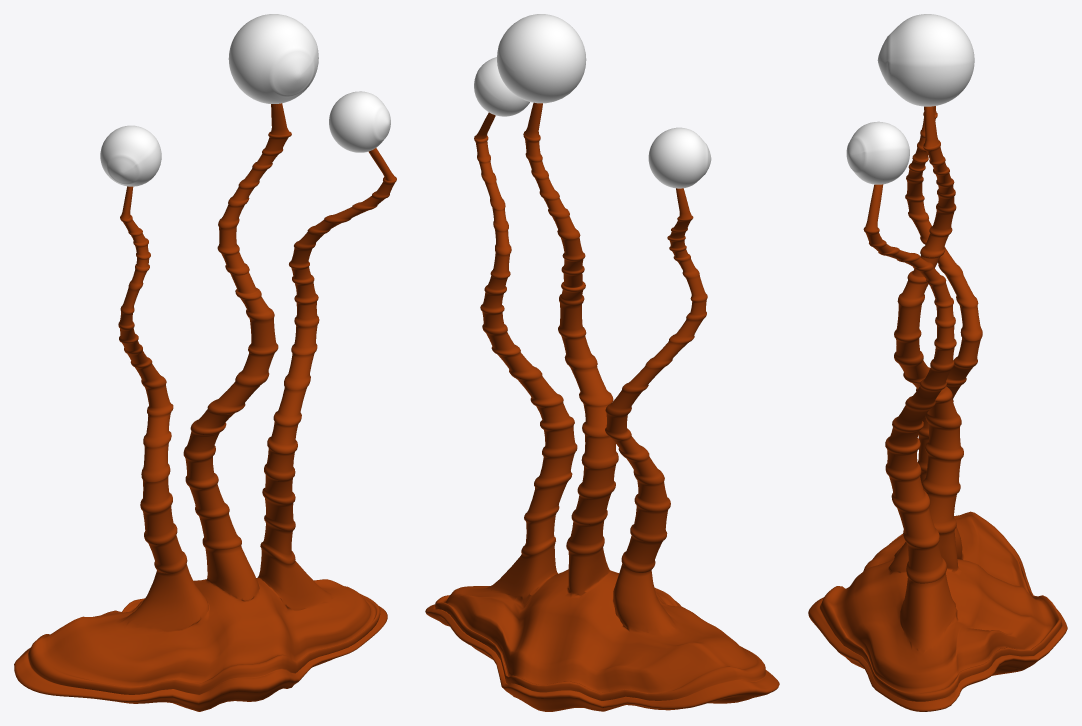
The model's file is WeirdPlant.fbx.
3 renders of one model, left to right at view 1: azimuth 30°, elevation 25°; view 2: azimuth 150°, elevation 25°; view 3: azimuth 270°, elevation 25°, orthographic. The views are drawn at different scales.
Parts seen in each view (by area): view 1: polySurface19; view 2: polySurface19; view 3: polySurface19.
Part boxes in pixels (x1=…): polySurface19: x1=14, y1=14, x2=396, y2=711; polySurface19: x1=425, y1=14, x2=779, y2=711; polySurface19: x1=808, y1=14, x2=1067, y2=711.
Bounding box in the file's own units: 4.55 × 7.92 × 2.8.
